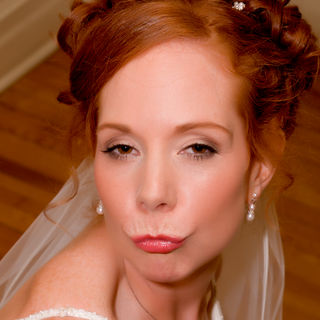eye: (173, 136, 221, 162), (99, 135, 141, 163)
